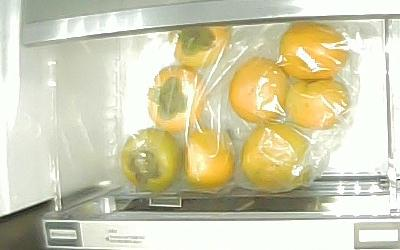persimmon_vinyl: (241, 122, 311, 191), (145, 64, 207, 134), (279, 21, 348, 81), (229, 57, 287, 124), (121, 127, 180, 191), (287, 78, 351, 130), (183, 127, 235, 190), (166, 24, 231, 68)
